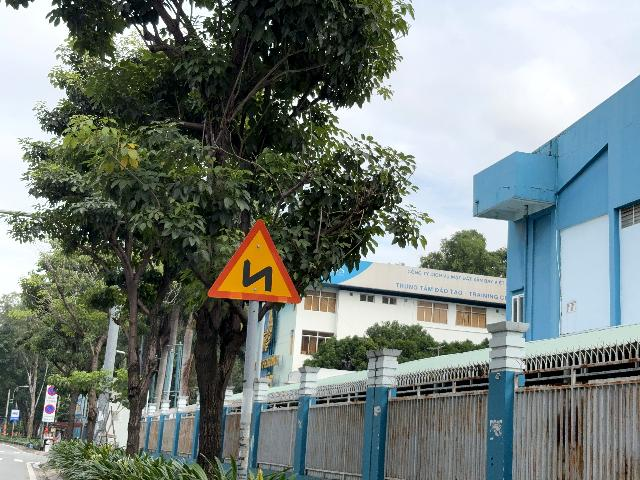nhieu-cho-ngoat-nguy-hiem-lien-tiep: (207, 218, 301, 304)
